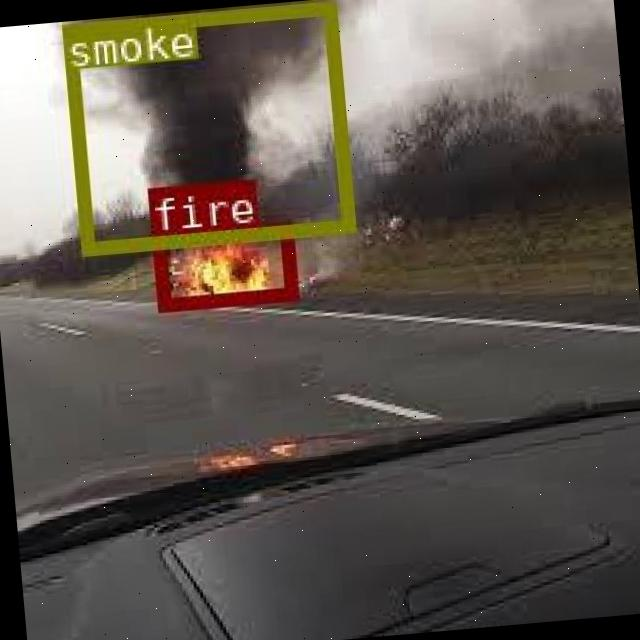fire: (151, 220, 295, 308)
smoke: (60, 0, 352, 253)
